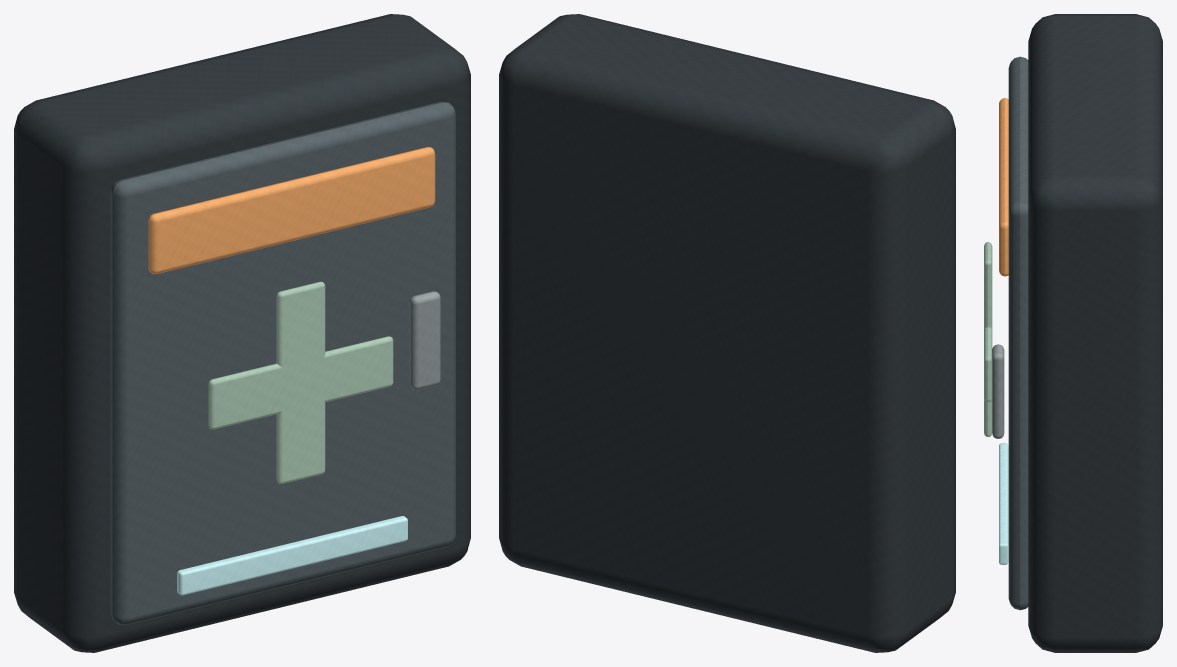
Rendered from FirstAidCase.glb.
3 renders of one model, left to right at view 1: azimuth 30°, elevation 25°; view 2: azimuth 150°, elevation 25°; view 3: azimuth 270°, elevation 25°, orthographic. The views are drawn at different scales.
Parts seen in each view (by area): view 1: FirstAidCase_Mesh; view 2: FirstAidCase_Mesh; view 3: FirstAidCase_Mesh.
Part boxes in pixels (bbox=[...]): FirstAidCase_Mesh: bbox=[14, 14, 470, 652]; FirstAidCase_Mesh: bbox=[499, 14, 955, 652]; FirstAidCase_Mesh: bbox=[984, 14, 1162, 652].
Bounding box in the file's own units: 0.64 × 0.78 × 0.266.
6 materials, 6 textured.
